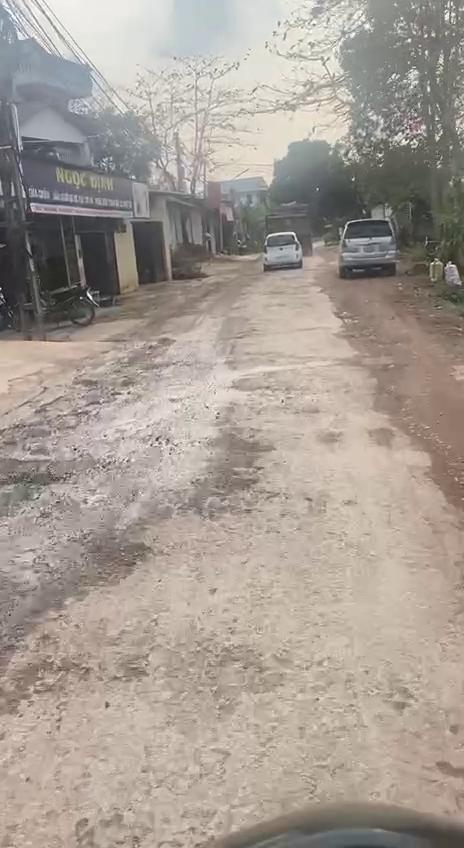pothole: (45, 532, 153, 607)
